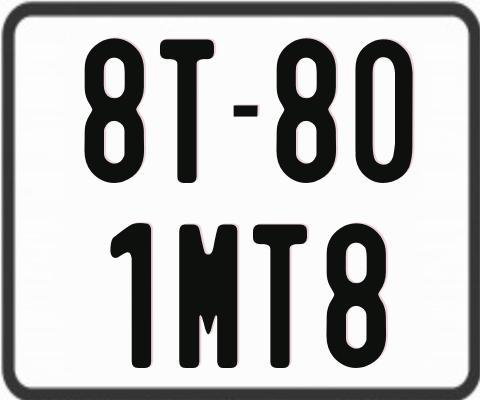0: (354, 38, 413, 188)
1: (108, 223, 149, 371)
8: (81, 36, 143, 186), (276, 38, 338, 187), (323, 222, 384, 370)
M: (178, 221, 240, 370)
T: (157, 37, 215, 184), (251, 223, 307, 370)
